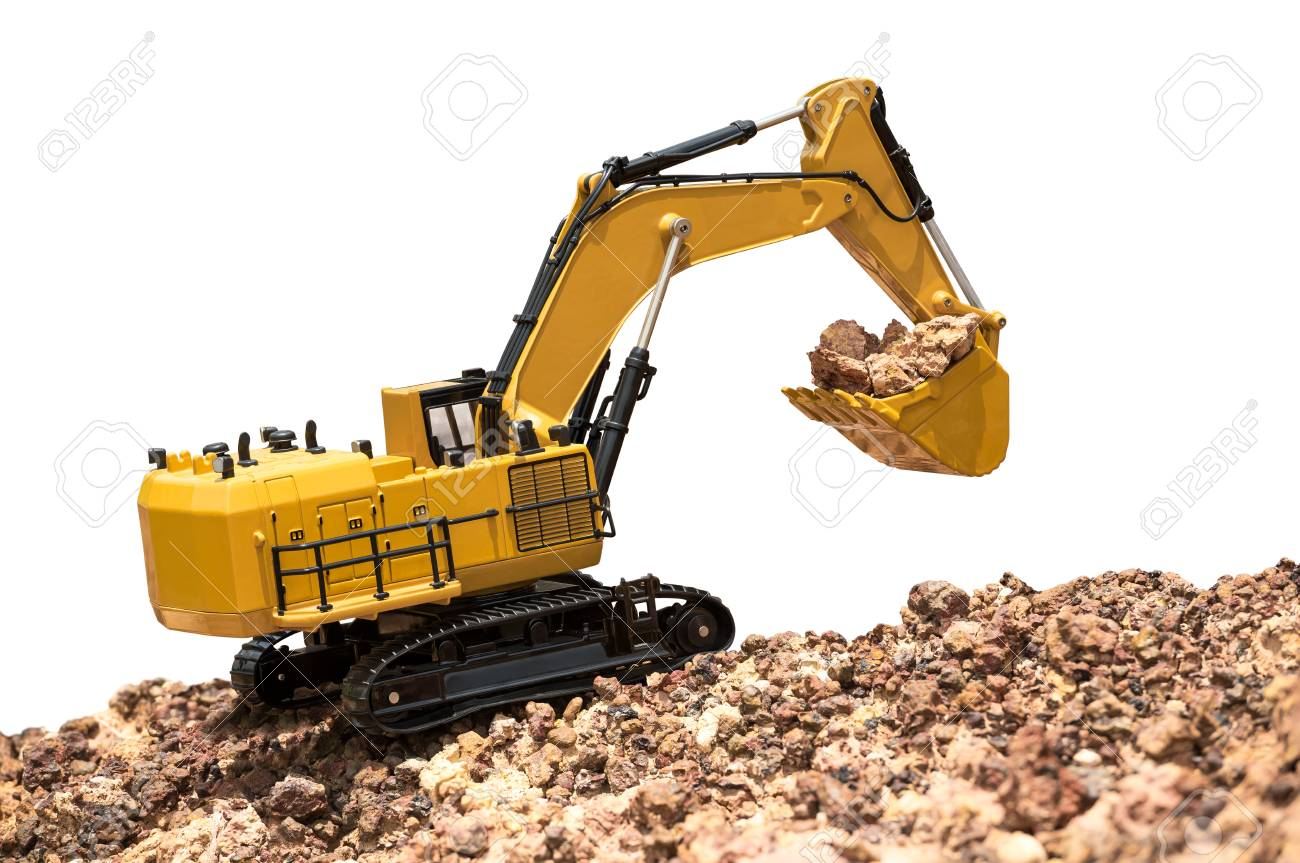backhoe: (138, 61, 1020, 747)
